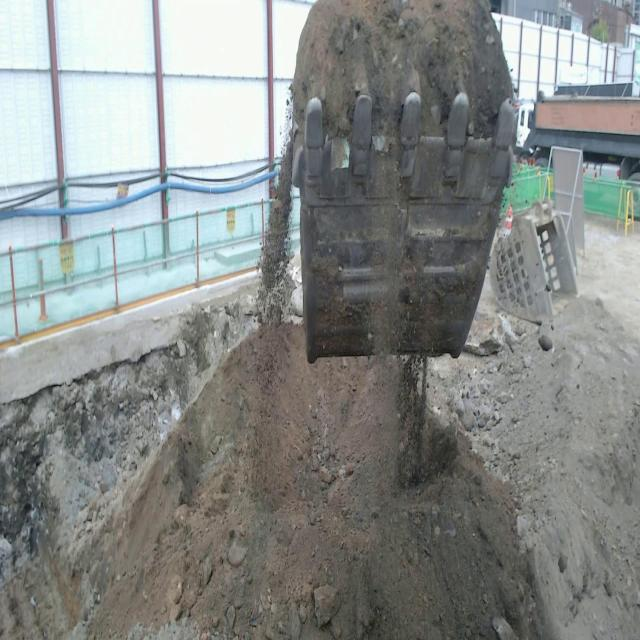red-sand: (89, 325, 529, 639), (293, 0, 512, 138)
white-sand: (531, 299, 640, 639)
